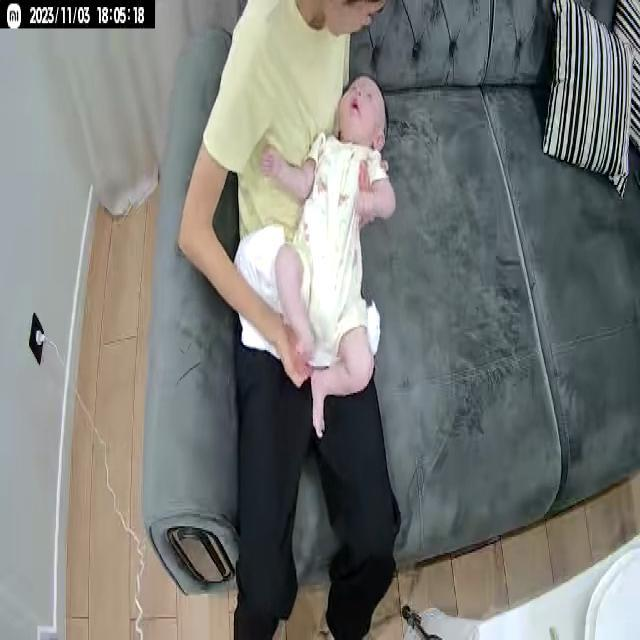baby: (258, 64, 401, 442)
